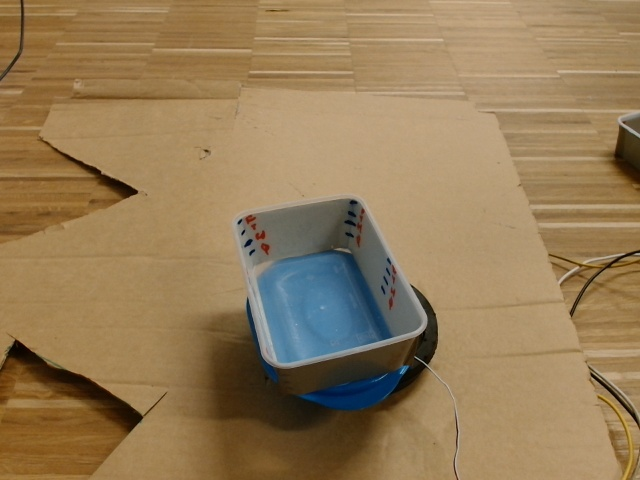Small_zero: (235, 193, 428, 368)
